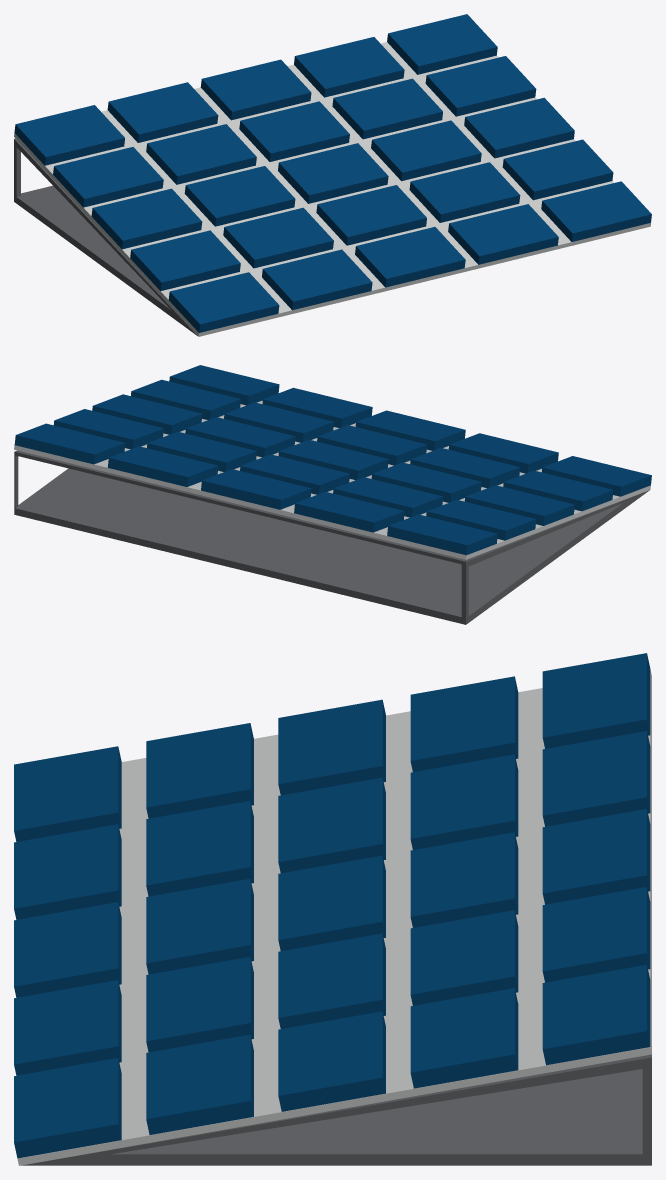
File: solar-panel-5x5-small.glb
The picture shows the model from 3 angles, top to bottom: view 1: azimuth 30°, elevation 25°; view 2: azimuth 150°, elevation 25°; view 3: azimuth 270°, elevation 25°; orthographic projection. The views are drawn at different scales.
Visible parts, largest first — view 1: Mesh_Mesh_head_geo.001_lambert2SG.001; view 2: Mesh_Mesh_head_geo.001_lambert2SG.001; view 3: Mesh_Mesh_head_geo.001_lambert2SG.001.
Part boxes in pixels (x1,y1,x2,y2): Mesh_Mesh_head_geo.001_lambert2SG.001: (14, 14, 651, 336); Mesh_Mesh_head_geo.001_lambert2SG.001: (14, 365, 651, 624); Mesh_Mesh_head_geo.001_lambert2SG.001: (14, 653, 651, 1165).
Size of the model in its own units: 150 by 24.9 by 107.
